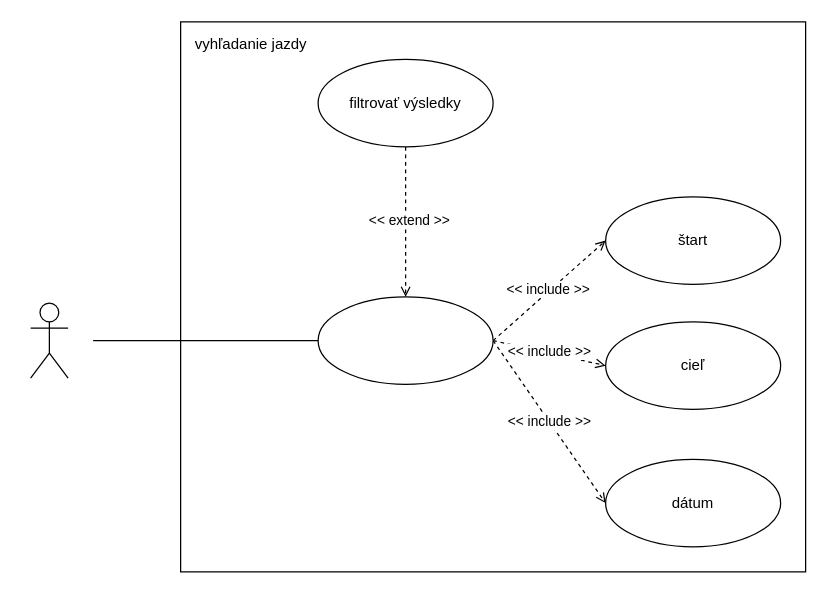
Some shapes in this 828 by 594 pixel diagram are drawn without their labels. The centre of each missing label's shape, as x and y in pixels:
pasažier: point 48,340
vyhľadať jazdu: point 405,340
